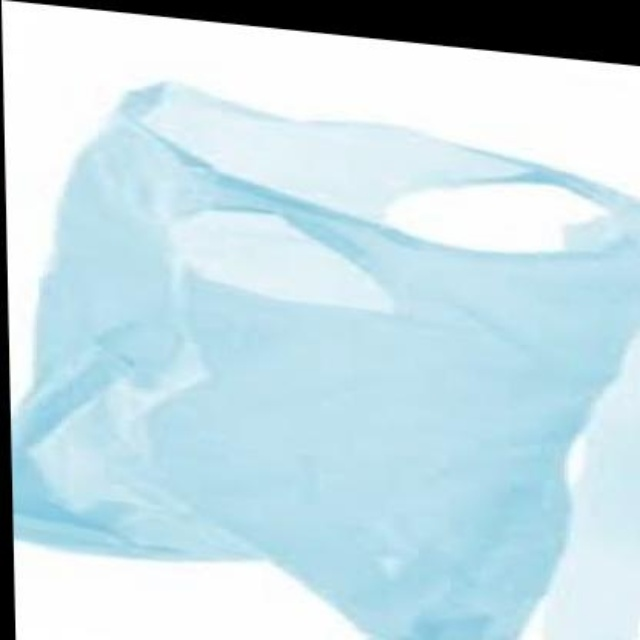trash: (15, 83, 638, 638)
